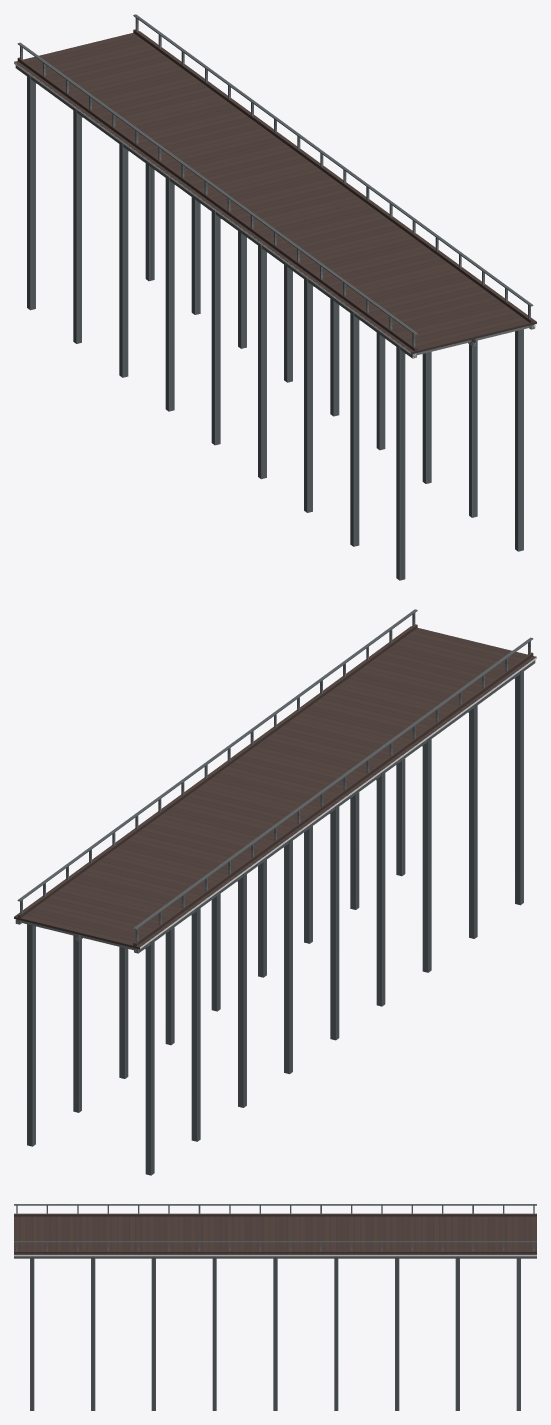
The model's file is objects_un_bridge02_01.gltf.
3 views of the same model, one above another, from view 1: azimuth 30°, elevation 25°; view 2: azimuth 150°, elevation 25°; view 3: azimuth 270°, elevation 25° (orthographic). The views are drawn at different scales.
Visible parts, largest first — view 1: um_objects_un_bridge02_01_model_lod0Shape:objects_un_bridge0 (×3); view 2: um_objects_un_bridge02_01_model_lod0Shape:objects_un_bridge0 (×3); view 3: um_objects_un_bridge02_01_model_lod0Shape:objects_un_bridge0 (×3).
Part boxes in pixels (left/top/right/bottom): um_objects_un_bridge02_01_model_lod0Shape:objects_un_bridge0 (×3): left=14, top=14, right=536, bottom=580; um_objects_un_bridge02_01_model_lod0Shape:objects_un_bridge0 (×3): left=14, top=609, right=536, bottom=1175; um_objects_un_bridge02_01_model_lod0Shape:objects_un_bridge0 (×3): left=14, top=1204, right=536, bottom=1410.
Size of what is drawn, in the model's own units: 6.7 by 12.95 by 36.55.
Materials: 3 (2 with a texture image).
